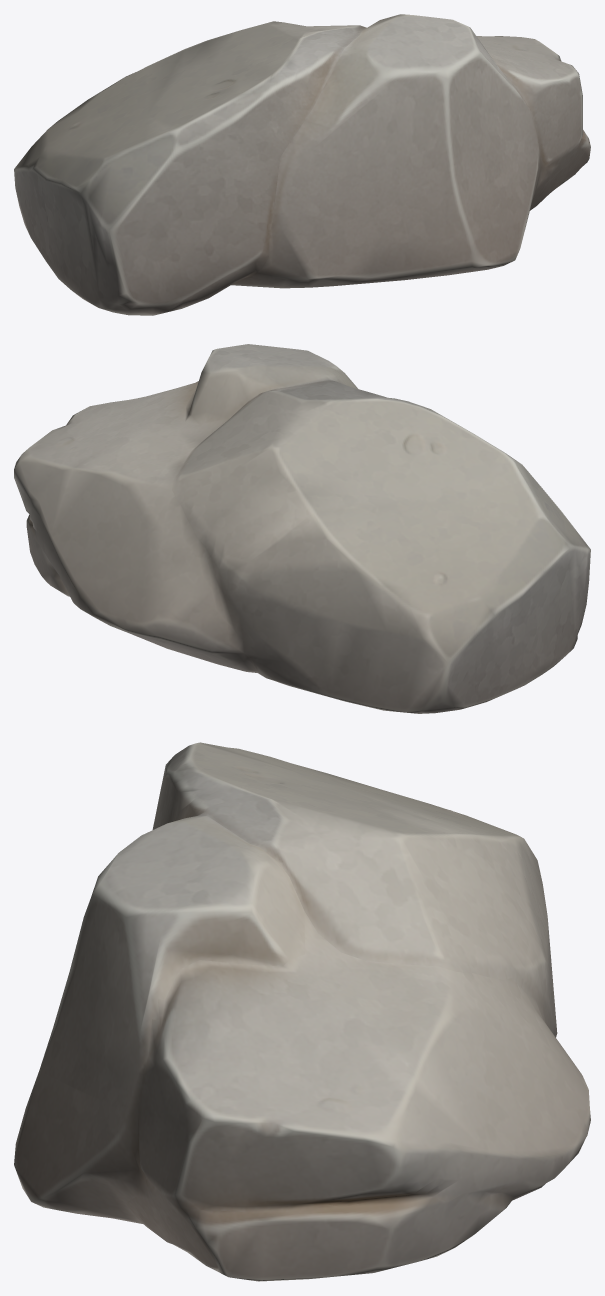
The model's file is rocks_03.glb.
The picture shows the model from 3 angles, top to bottom: view 1: azimuth 30°, elevation 25°; view 2: azimuth 150°, elevation 25°; view 3: azimuth 270°, elevation 25°; orthographic projection. The views are drawn at different scales.
Visible parts, largest first — view 1: SM_Rocks_03_RocksStylized_M_0; view 2: SM_Rocks_03_RocksStylized_M_0; view 3: SM_Rocks_03_RocksStylized_M_0.
Part boxes in pixels (bbox=[...]): SM_Rocks_03_RocksStylized_M_0: bbox=[14, 14, 590, 315]; SM_Rocks_03_RocksStylized_M_0: bbox=[14, 344, 590, 713]; SM_Rocks_03_RocksStylized_M_0: bbox=[14, 742, 590, 1281].
Size of the model in its own units: 21.46 by 8.88 by 14.06.
1 material, 1 textured.
